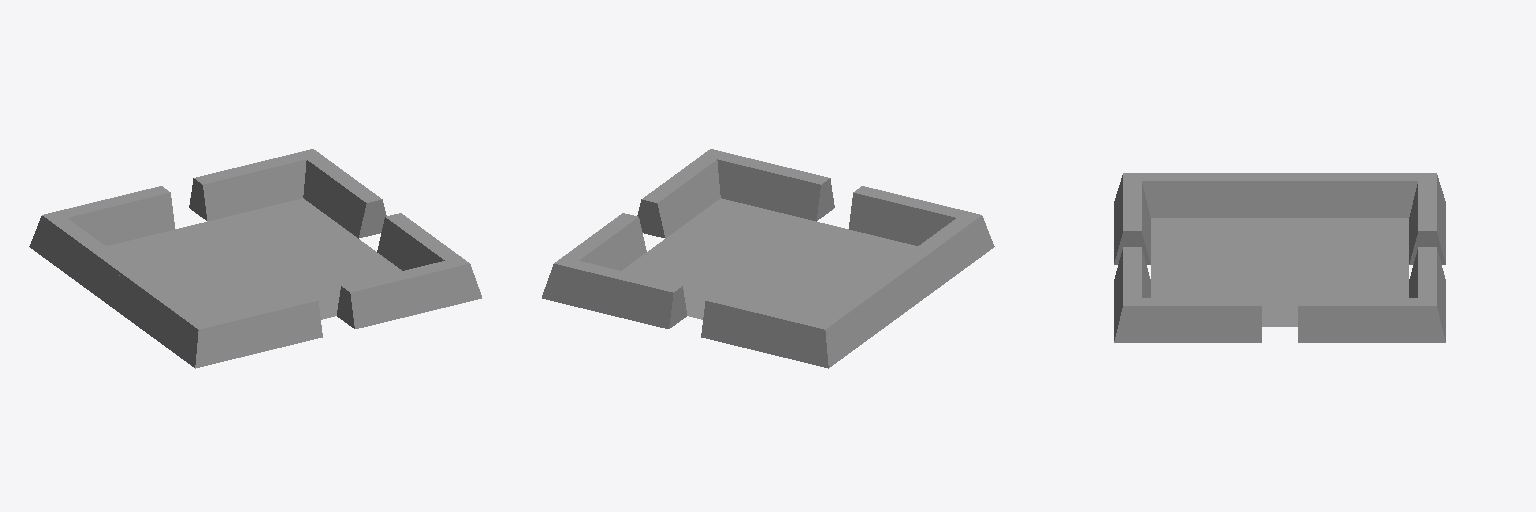
Rendered from sala_13.obj.
3 views of the same model, side by side, from view 1: azimuth 30°, elevation 25°; view 2: azimuth 150°, elevation 25°; view 3: azimuth 270°, elevation 25° (orthographic).
Visible parts, largest first — view 1: Ground_Plane, Wall.005_Cube.002, Wall.002_Cube.014, Wall.007_Cube.017, Wall.001_Cube.012, Wall.003_Cube.010, Wall.000_Cube.011, Wall.006_Cube.016, Wall.004_Cube.015; view 2: Ground_Plane, Wall.007_Cube.017, Wall.000_Cube.011, Wall.005_Cube.002, Wall.003_Cube.010, Wall.001_Cube.012, Wall.002_Cube.014, Wall.004_Cube.015, Wall.006_Cube.016; view 3: Ground_Plane, Wall.004_Cube.015, Wall.006_Cube.016, Wall.003_Cube.010, Wall.001_Cube.012, Wall.000_Cube.011, Wall.002_Cube.014, Wall.005_Cube.002, Wall.007_Cube.017.
Boxes of the visible parts, box(x1,y1,x2,y2) form: Ground_Plane: box(106, 198, 401, 319); Wall.005_Cube.002: box(337, 261, 481, 328); Wall.002_Cube.014: box(195, 294, 322, 368); Wall.007_Cube.017: box(189, 149, 312, 221); Wall.001_Cube.012: box(29, 215, 135, 306); Wall.003_Cube.010: box(112, 269, 204, 367); Wall.000_Cube.011: box(44, 186, 174, 245); Wall.006_Cube.016: box(303, 149, 386, 238); Wall.004_Cube.015: box(377, 213, 468, 270); Ground_Plane: box(622, 198, 917, 319); Wall.007_Cube.017: box(542, 261, 686, 328); Wall.000_Cube.011: box(701, 294, 828, 368); Wall.005_Cube.002: box(711, 149, 834, 221); Wall.003_Cube.010: box(888, 215, 994, 306); Wall.001_Cube.012: box(819, 269, 911, 367); Wall.002_Cube.014: box(849, 186, 979, 245); Wall.004_Cube.015: box(637, 149, 720, 238); Wall.006_Cube.016: box(555, 213, 646, 270); Ground_Plane: box(1151, 218, 1408, 326); Wall.004_Cube.015: box(1114, 298, 1261, 342); Wall.006_Cube.016: box(1298, 298, 1445, 342); Wall.003_Cube.010: box(1124, 173, 1279, 217); Wall.001_Cube.012: box(1280, 173, 1435, 217); Wall.000_Cube.011: box(1409, 173, 1445, 264); Wall.002_Cube.014: box(1114, 173, 1150, 264); Wall.005_Cube.002: box(1114, 247, 1150, 340); Wall.007_Cube.017: box(1409, 247, 1445, 340).
Size of the model in its own units: 18 by 2 by 18.